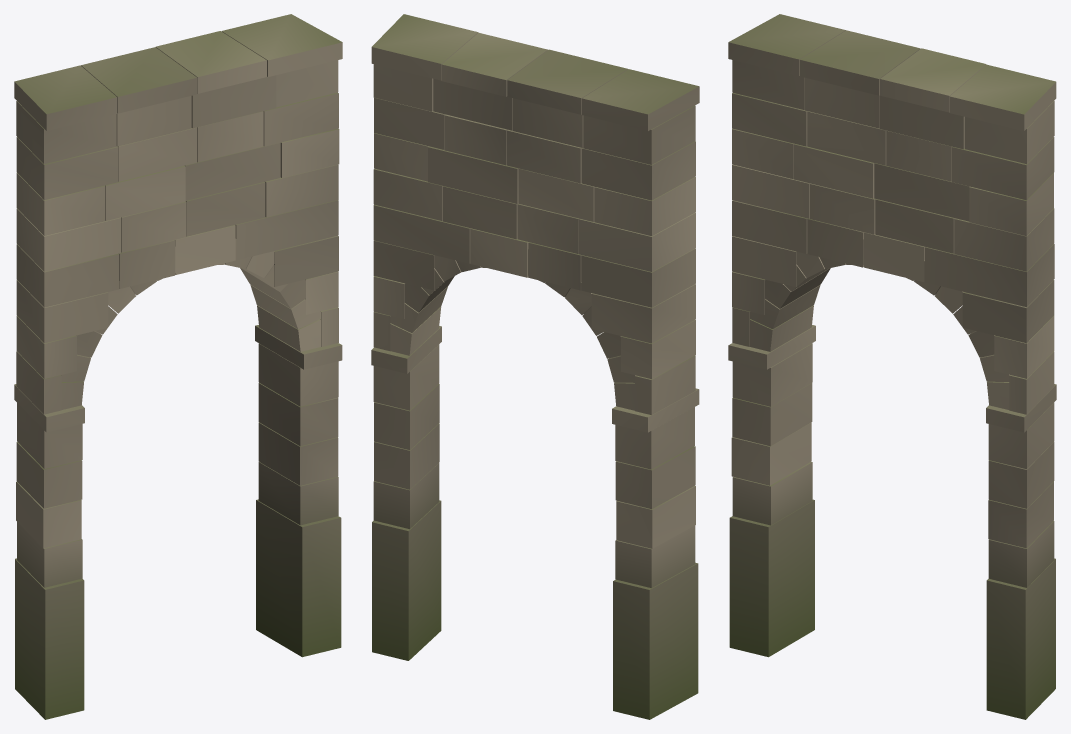
The model's file is arena_inner_b_mid.glb.
The picture shows the model from 3 angles, left to right: view 1: azimuth 30°, elevation 25°; view 2: azimuth 150°, elevation 25°; view 3: azimuth 330°, elevation 25°; orthographic projection.
Visible parts, largest first — view 1: arena_inner_b_mid; view 2: arena_inner_b_mid; view 3: arena_inner_b_mid.
Boxes of the visible parts, left/top/right/bottom form: arena_inner_b_mid: left=14, top=14, right=342, bottom=719; arena_inner_b_mid: left=371, top=14, right=699, bottom=719; arena_inner_b_mid: left=728, top=14, right=1056, bottom=719.
Size of the model in its own units: 14.3 by 27.99 by 3.54.
